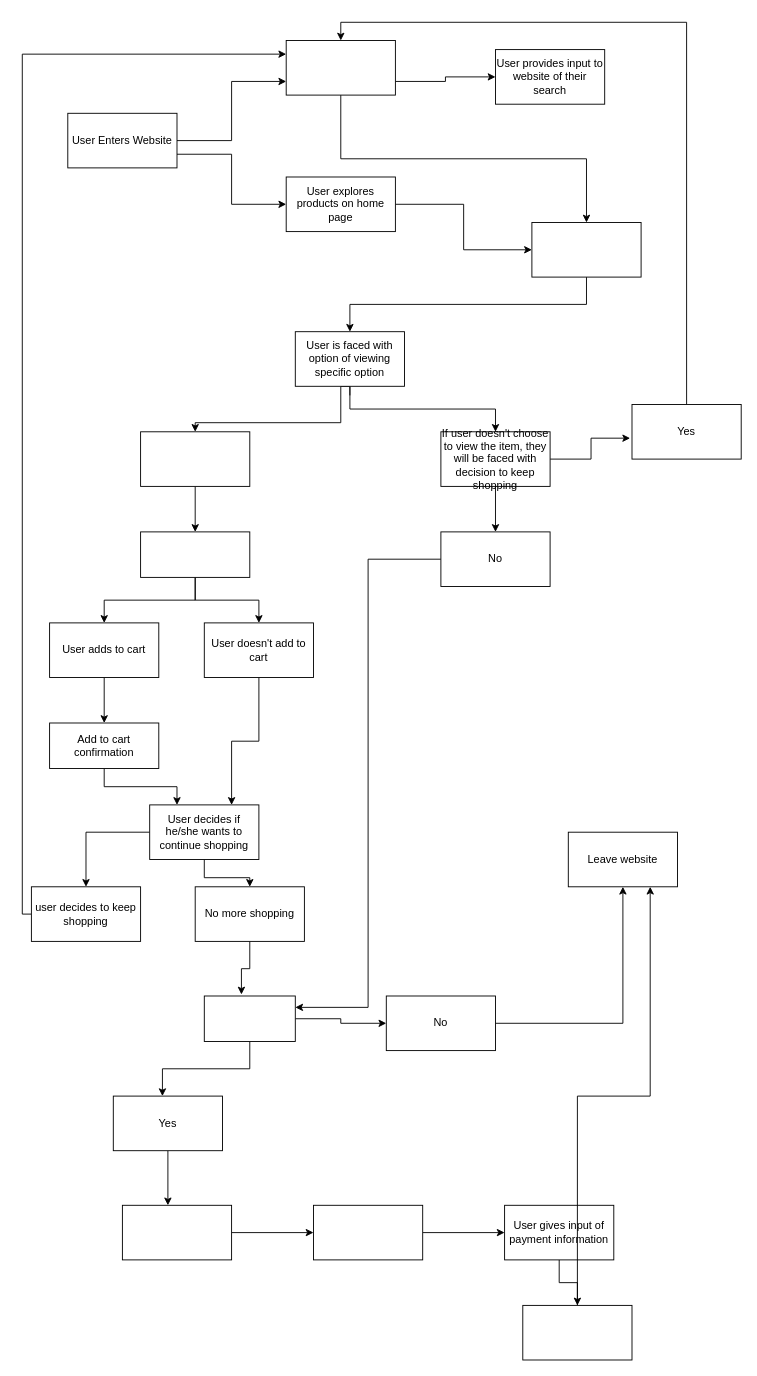
Some shapes in this 757 by 1376 pixel diagram are drawn without their labels. Each missing label, with the centre of its shape:
Go to View Cart screen: the point at 176,1232
Go to View Payment screen: the point at 368,1232
If user chooses to view specific product, that product's website will open: the point at 195,458
User begins looking over products: the point at 586,249
User decides checkout: the point at 249,1018
User searches for product: the point at 340,67
User sees order confirmation screen and receives email at same time: the point at 577,1332
User then has option to add item to cart: the point at 195,554
